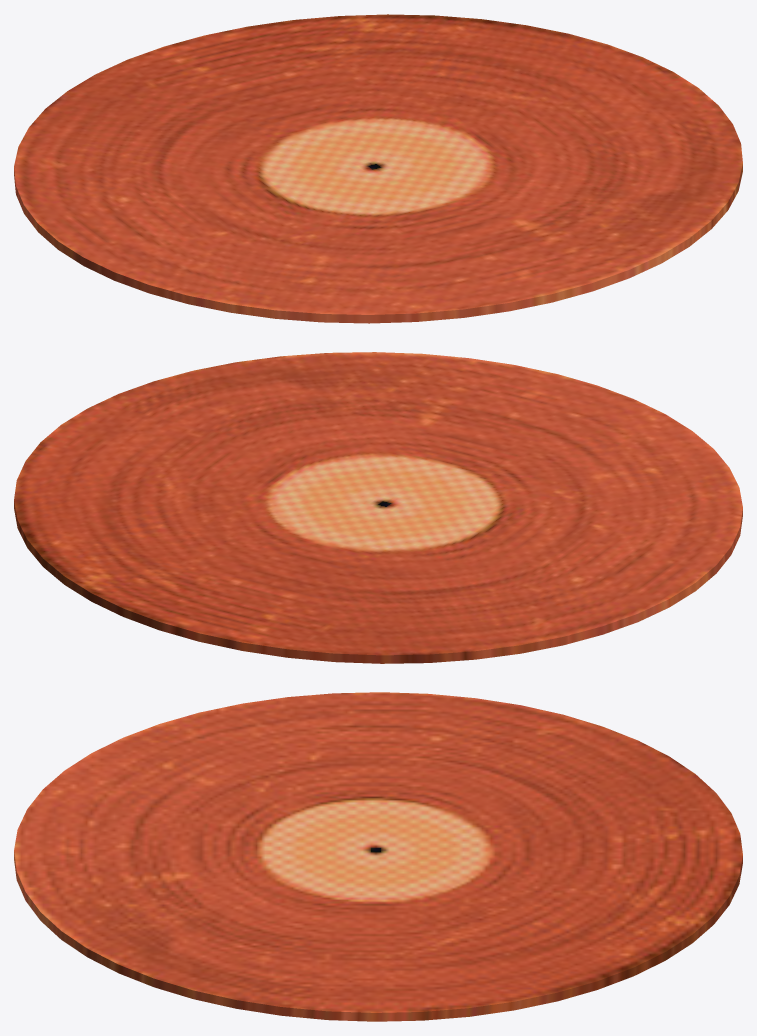
Rendered from RECORD_DISC.glb.
3 renders of one model, top to bottom at view 1: azimuth 30°, elevation 25°; view 2: azimuth 150°, elevation 25°; view 3: azimuth 270°, elevation 25°, orthographic. The views are drawn at different scales.
Parts seen in each view (by area): view 1: Stickersbox02_Cube.005; view 2: Stickersbox02_Cube.005; view 3: Stickersbox02_Cube.005.
Part boxes in pixels (x1,y1,x2,y2): Stickersbox02_Cube.005: (14,14,742,323); Stickersbox02_Cube.005: (14,352,742,663); Stickersbox02_Cube.005: (14,692,742,1021).
Size of the model in its own units: 0.2052 by 0.00307 by 0.1971.
Materials: 1 (1 with a texture image).
